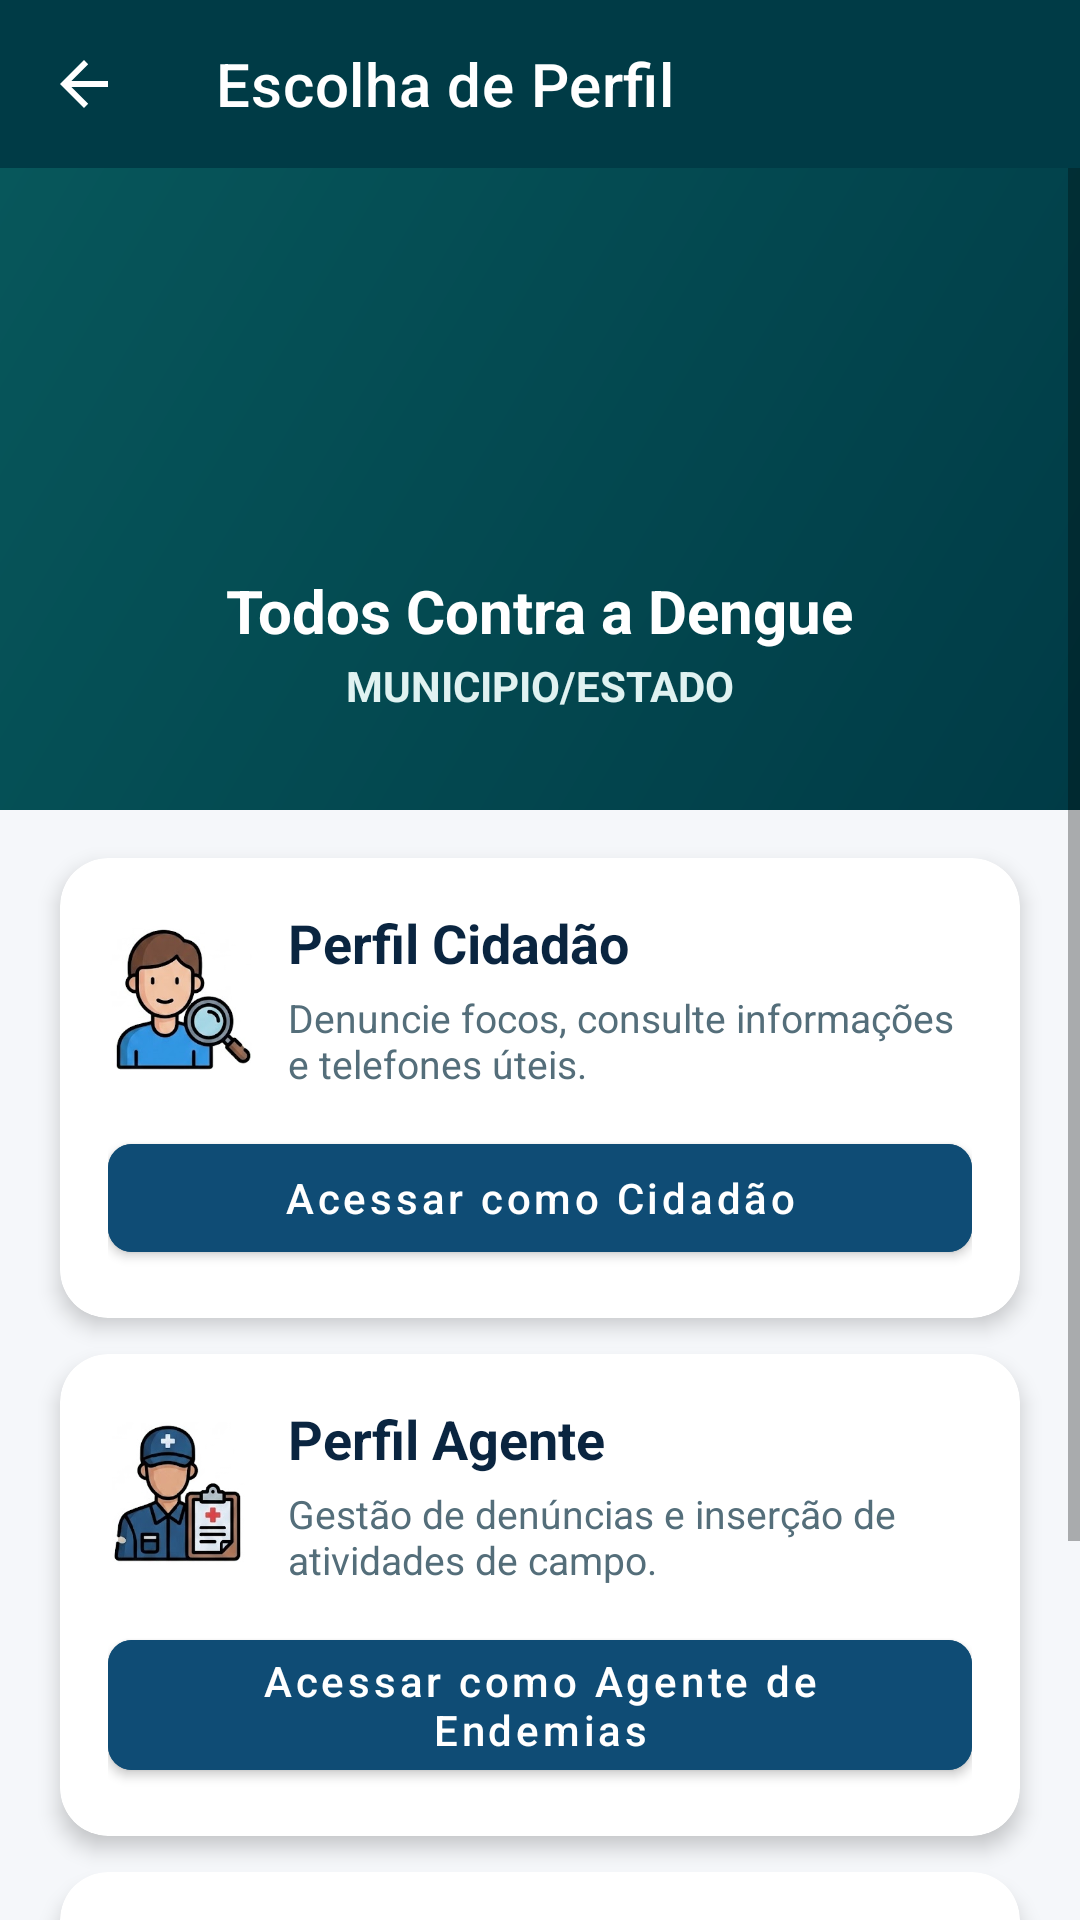

Named icons in this screenshot (1080x1920) and their bounding boxes, detection(x1, y1, x2, y2):
Ícone Agente: detection(114, 1425, 241, 1561)
Ícone Cidadão: detection(116, 929, 251, 1070)
